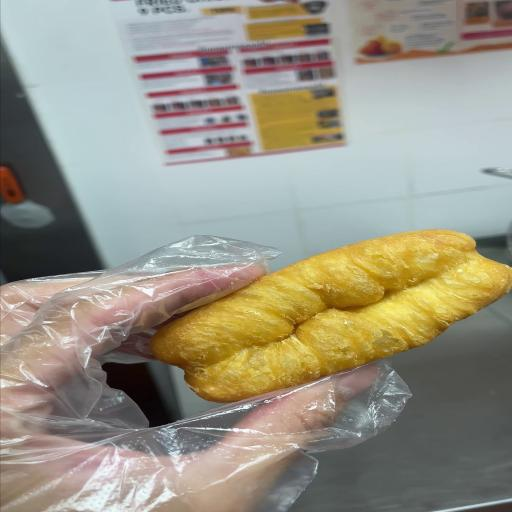brand_golden_good: (150, 230, 512, 402)
